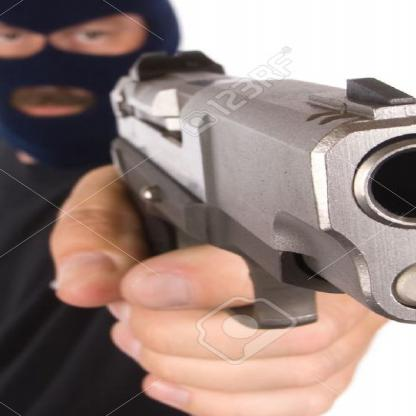gun: (100, 47, 415, 369)
